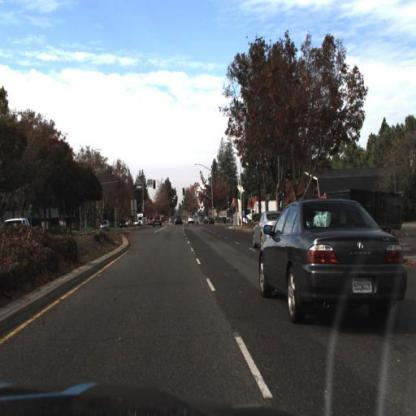car: (258, 197, 411, 327), (253, 211, 292, 247), (99, 218, 113, 236), (151, 211, 163, 230), (176, 216, 184, 226), (189, 216, 195, 226)
truck: (328, 188, 404, 238)
